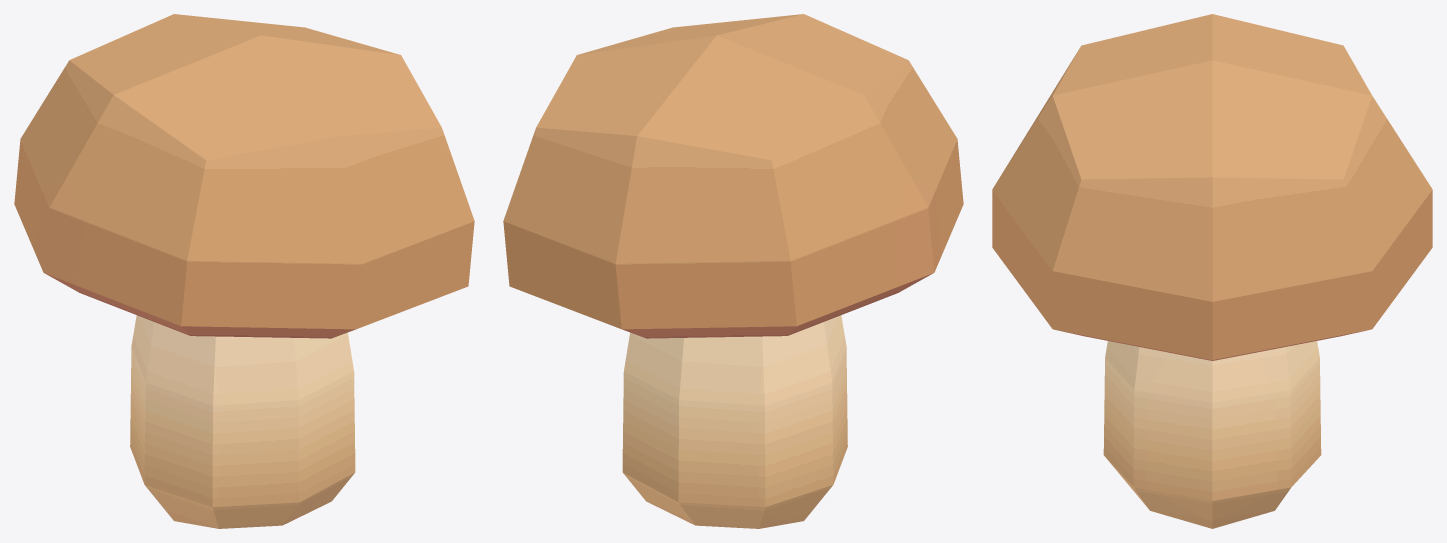
The model's file is Champignon_small.glb.
3 views of the same model, side by side, from view 1: azimuth 30°, elevation 25°; view 2: azimuth 150°, elevation 25°; view 3: azimuth 270°, elevation 25° (orthographic). The views are drawn at different scales.
Visible parts, largest first — view 1: Cube.001; view 2: Cube.001; view 3: Cube.001.
Boxes of the visible parts, <box> form: Cube.001: <box>14,14,474,528</box>; Cube.001: <box>503,14,963,528</box>; Cube.001: <box>992,14,1432,528</box>.
Bounding box in the file's own units: 3.56 × 4.08 × 3.53.
1 material, 1 textured.
